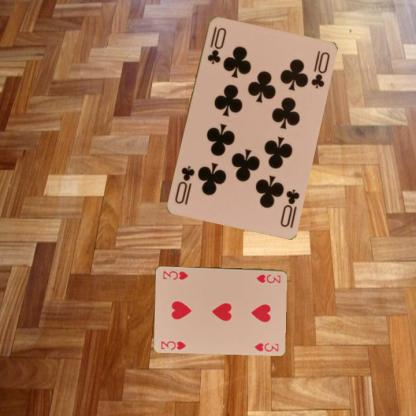10c: (204, 24, 228, 65), (278, 186, 300, 229)
3h: (158, 338, 188, 351), (254, 272, 282, 284)
